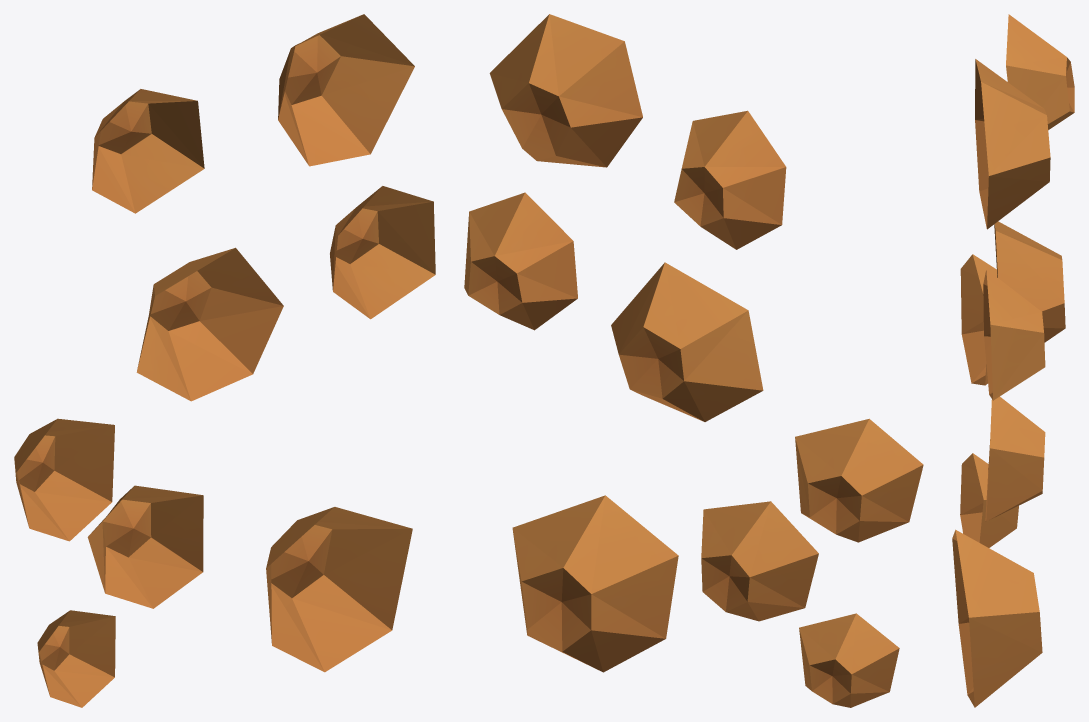
The model's file is Barnacle_02.FBX.
The picture shows the model from 3 angles, left to right: view 1: azimuth 30°, elevation 25°; view 2: azimuth 150°, elevation 25°; view 3: azimuth 270°, elevation 25°; orthographic projection. The views are drawn at different scales.
Visible parts, largest first — view 1: Barnacle_02; view 2: Barnacle_02; view 3: Barnacle_02.
Part boxes in pixels (x1,y1,x2,y2): Barnacle_02: (14, 14, 435, 707); Barnacle_02: (464, 14, 923, 707); Barnacle_02: (952, 14, 1074, 707).
Size of the model in its own units: 3.26 by 4.59 by 0.8011.
